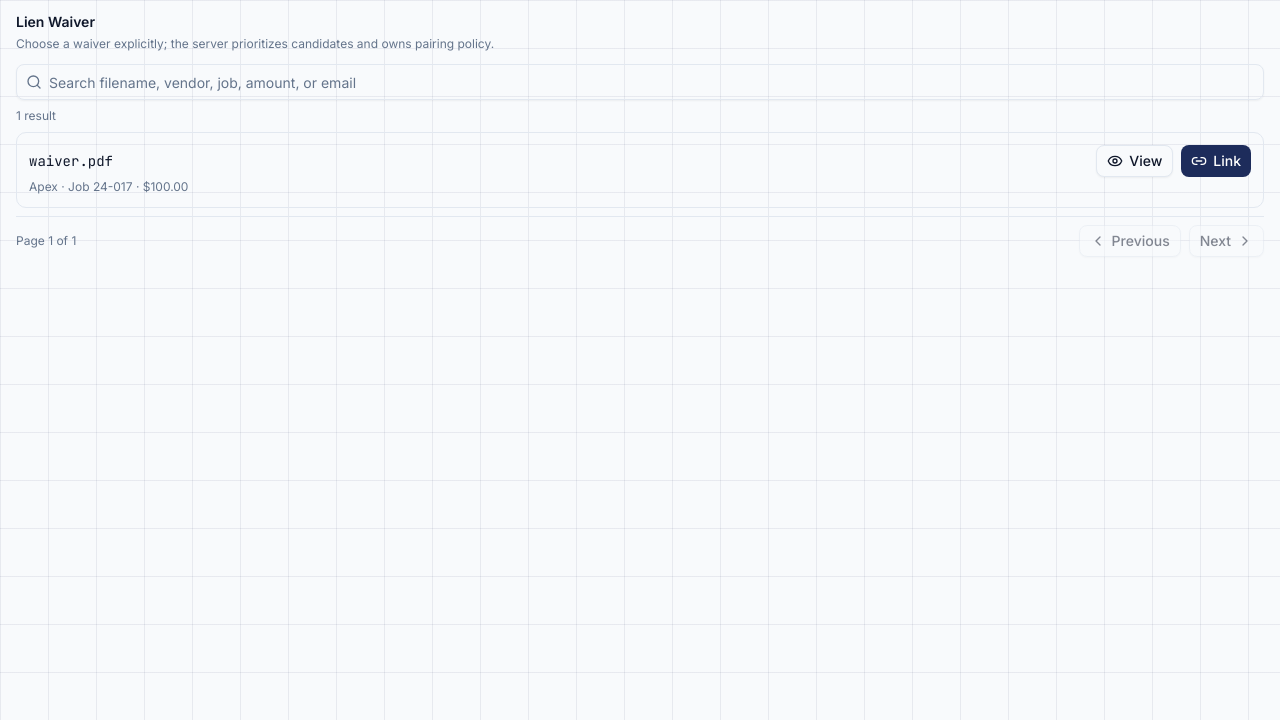
Test: WaiverPairingSection › portals a link failure without moving candidates or changing the mutation
Expected: the text "waiver.pdf" is shown, [29, 152, 113, 170]
Click the button "Link" at (1216, 161), box [1181, 145, 1251, 177]
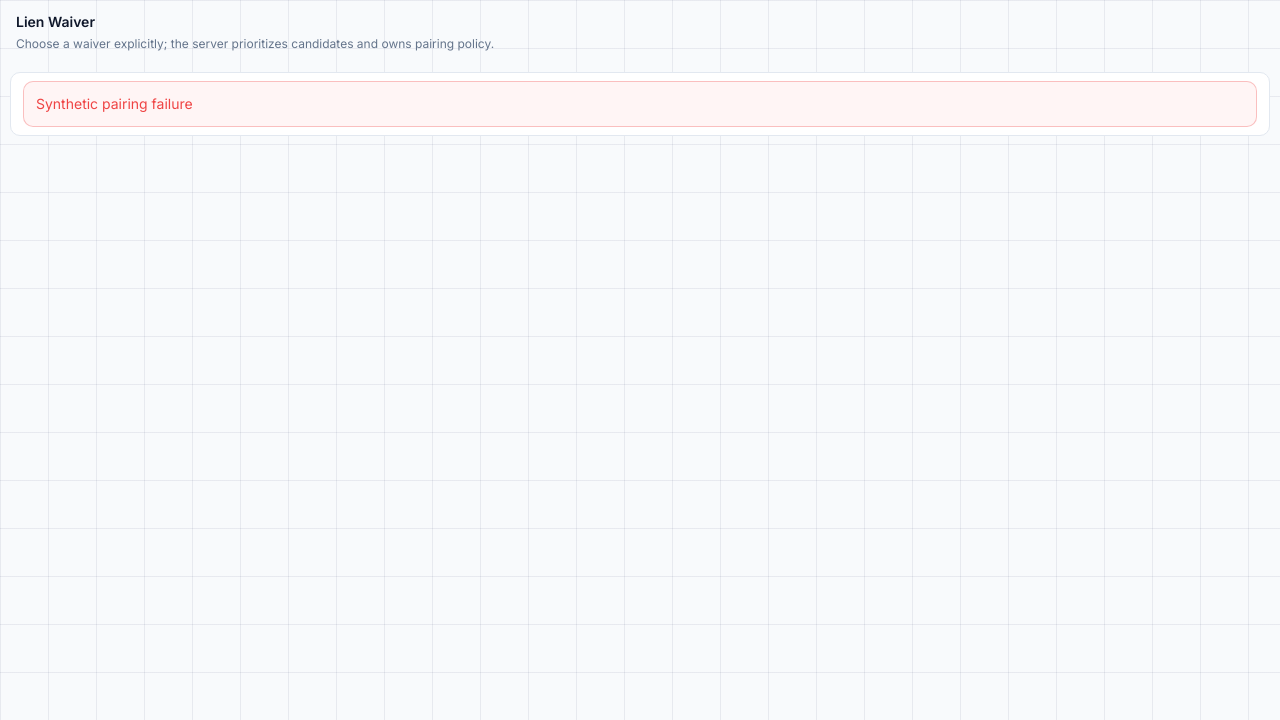
Result: the text "Synthetic pairing failure" is shown at [23, 81, 1257, 127]
